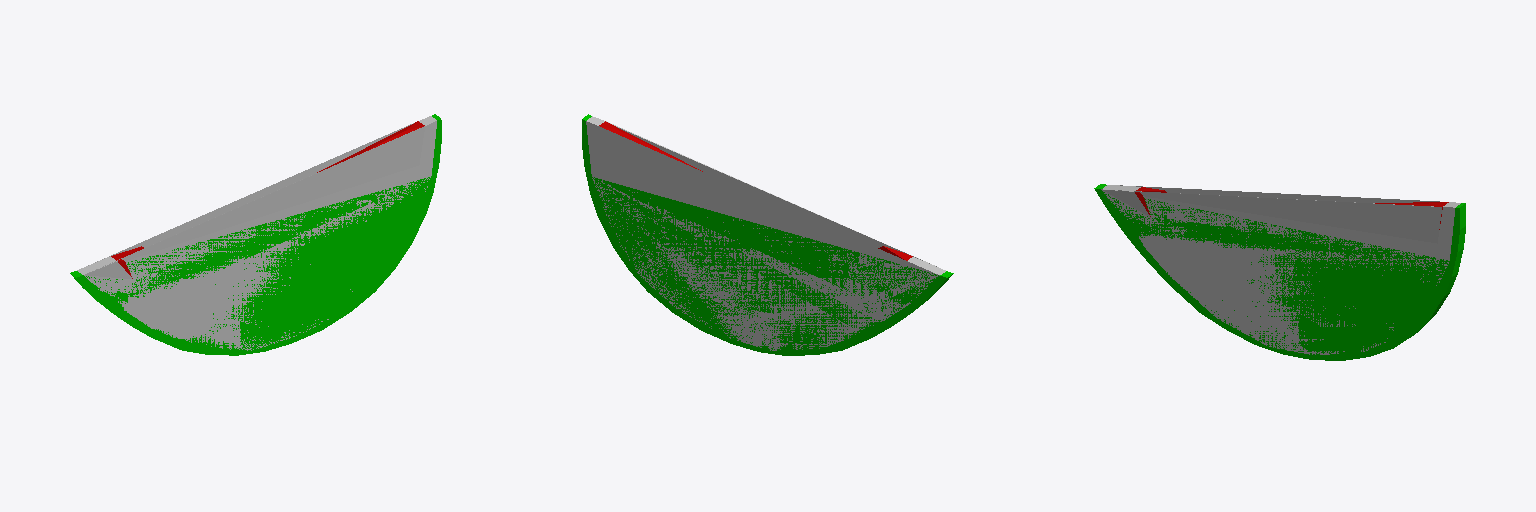
Rendered from organik4.obj.
3 views of the same model, side by side, from view 1: azimuth 30°, elevation 25°; view 2: azimuth 150°, elevation 25°; view 3: azimuth 330°, elevation 25° (orthographic).
Visible parts, largest first — view 1: Circle; view 2: Circle; view 3: Circle.
Part boxes in pixels (left/top/right/bottom): Circle: left=70, top=114, right=441, bottom=355; Circle: left=582, top=114, right=953, bottom=355; Circle: left=1094, top=184, right=1465, bottom=360.
Size of the model in its own units: 9.85 by 4.89 by 0.3246.